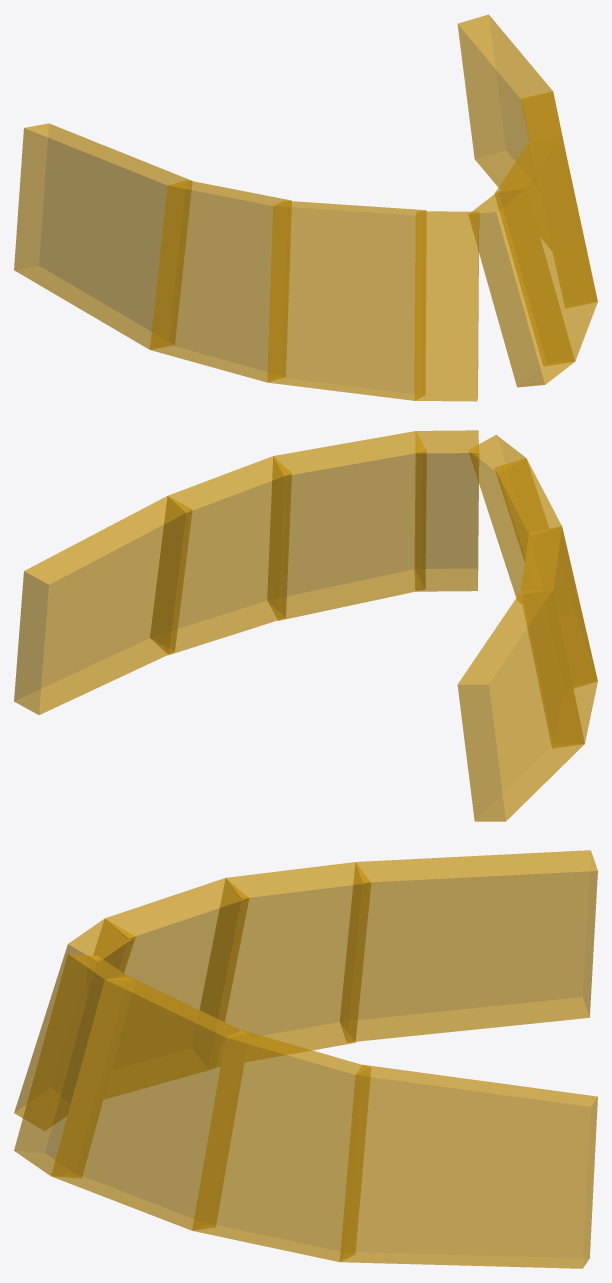
File: SM_Veh_Ship_S_Front_02_Collision.fbx
3 renders of one model, top to bottom at view 1: azimuth 30°, elevation 25°; view 2: azimuth 150°, elevation 25°; view 3: azimuth 270°, elevation 25°, orthographic. The views are drawn at different scales.
Visible parts, largest first — view 1: SM_Veh_Ship_S_Front_02_Collision; view 2: SM_Veh_Ship_S_Front_02_Collision; view 3: SM_Veh_Ship_S_Front_02_Collision.
Boxes of the visible parts, box(x1,y1,x2,y2) form: SM_Veh_Ship_S_Front_02_Collision: box(14, 14, 597, 401); SM_Veh_Ship_S_Front_02_Collision: box(14, 430, 597, 821); SM_Veh_Ship_S_Front_02_Collision: box(14, 850, 597, 1268).
Size of the model in its own units: 535 by 184 by 486.
